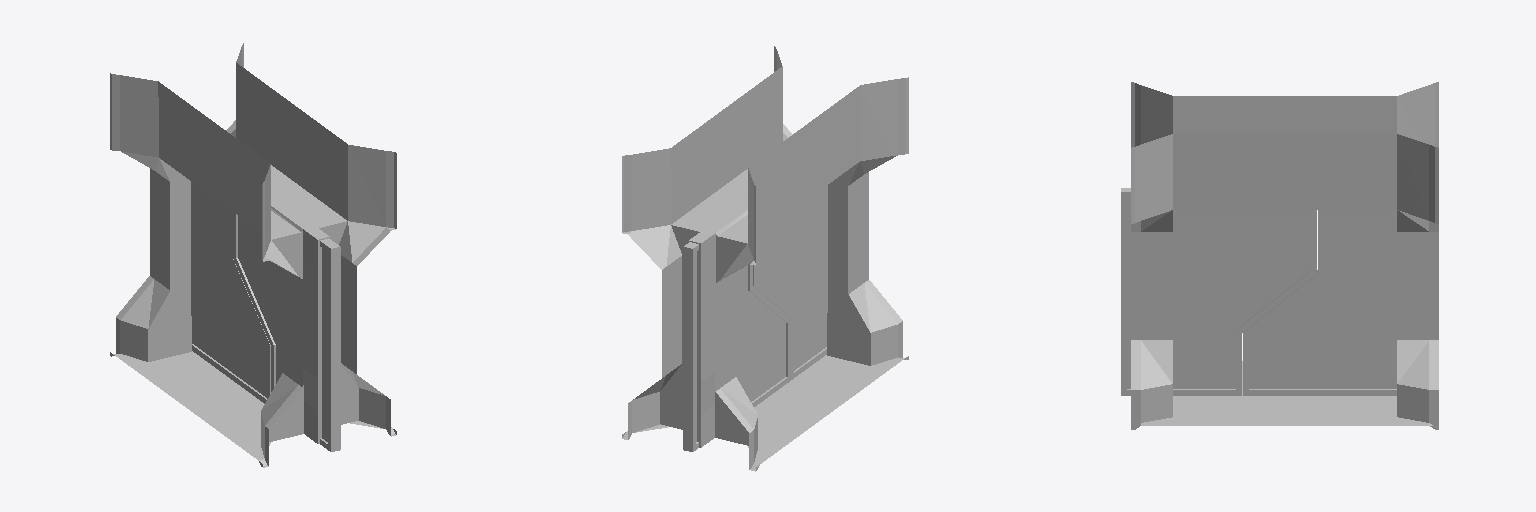
The model's file is greybox_door_01.obj.
3 renders of one model, left to right at view 1: azimuth 30°, elevation 25°; view 2: azimuth 150°, elevation 25°; view 3: azimuth 270°, elevation 25°, orthographic.
Parts seen in each view (by area): view 1: doorframe door1, doorframe door1 door_2, doorframe door1 door_1; view 2: doorframe door1, doorframe door1 door_1, doorframe door1 door_2; view 3: doorframe door1, doorframe door1 door_1, doorframe door1 door_2.
Boxes of the visible parts, x1=… form: doorframe door1: x1=110, y1=43, x2=396, y2=467; doorframe door1 door_2: x1=191, y1=182, x2=270, y2=403; doorframe door1 door_1: x1=233, y1=212, x2=340, y2=451; doorframe door1: x1=622, y1=46, x2=908, y2=471; doorframe door1 door_1: x1=753, y1=185, x2=827, y2=379; doorframe door1 door_2: x1=683, y1=242, x2=790, y2=451; doorframe door1: x1=1131, y1=82, x2=1438, y2=429; doorframe door1 door_1: x1=1121, y1=188, x2=1316, y2=395; doorframe door1 door_2: x1=1243, y1=210, x2=1396, y2=395.
Size of the model in its own units: 2.02 by 4.05 by 4.13.